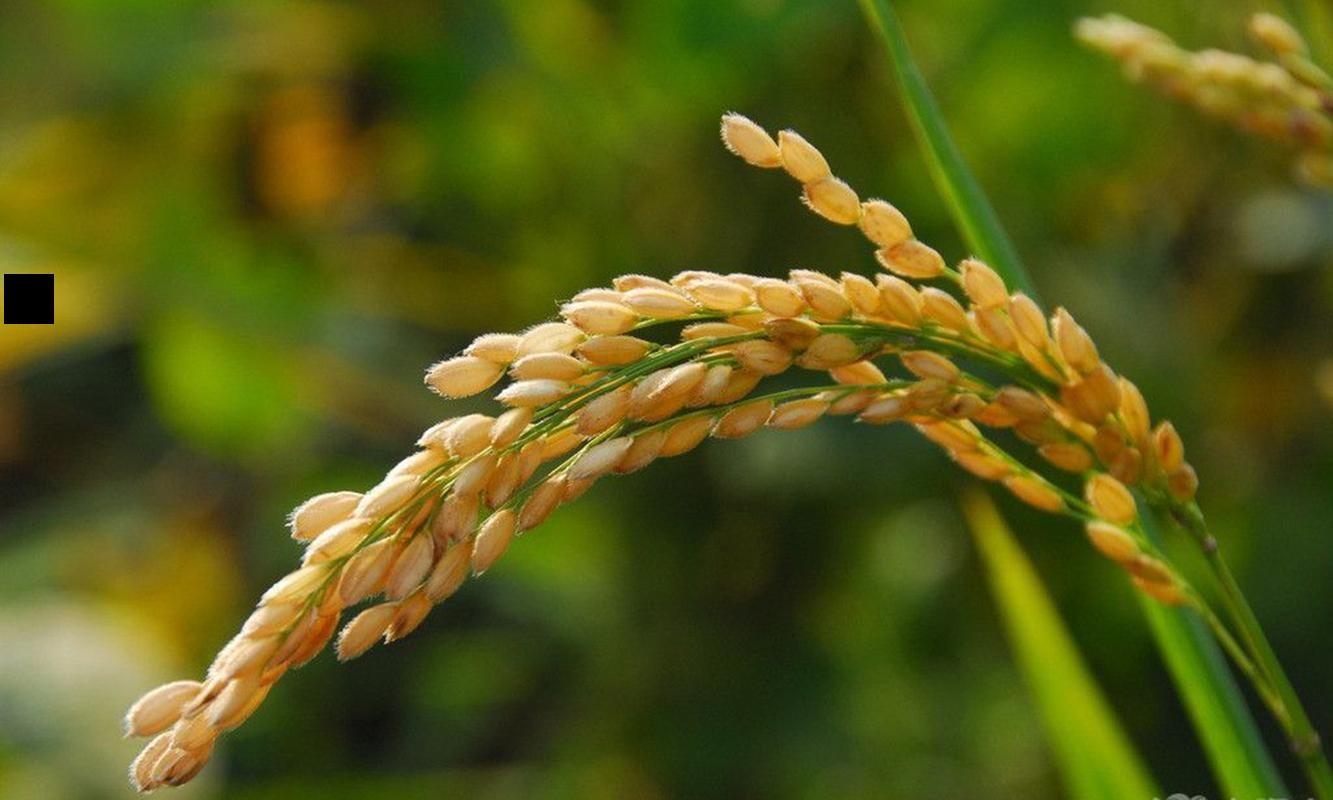rice: (115, 55, 1195, 796)
